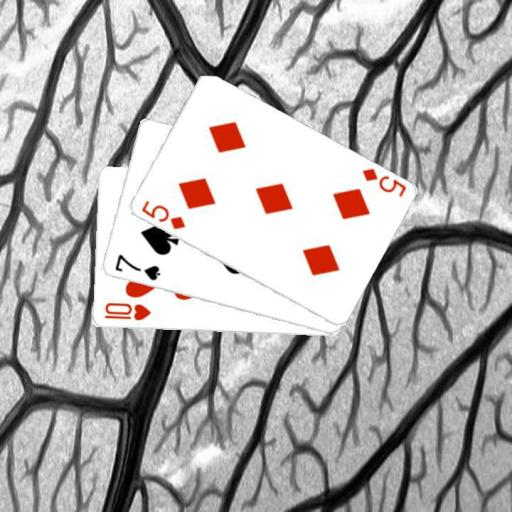10H: (101, 300, 152, 323)
5D: (138, 197, 187, 231), (359, 165, 408, 198)
7S: (111, 251, 161, 282)
